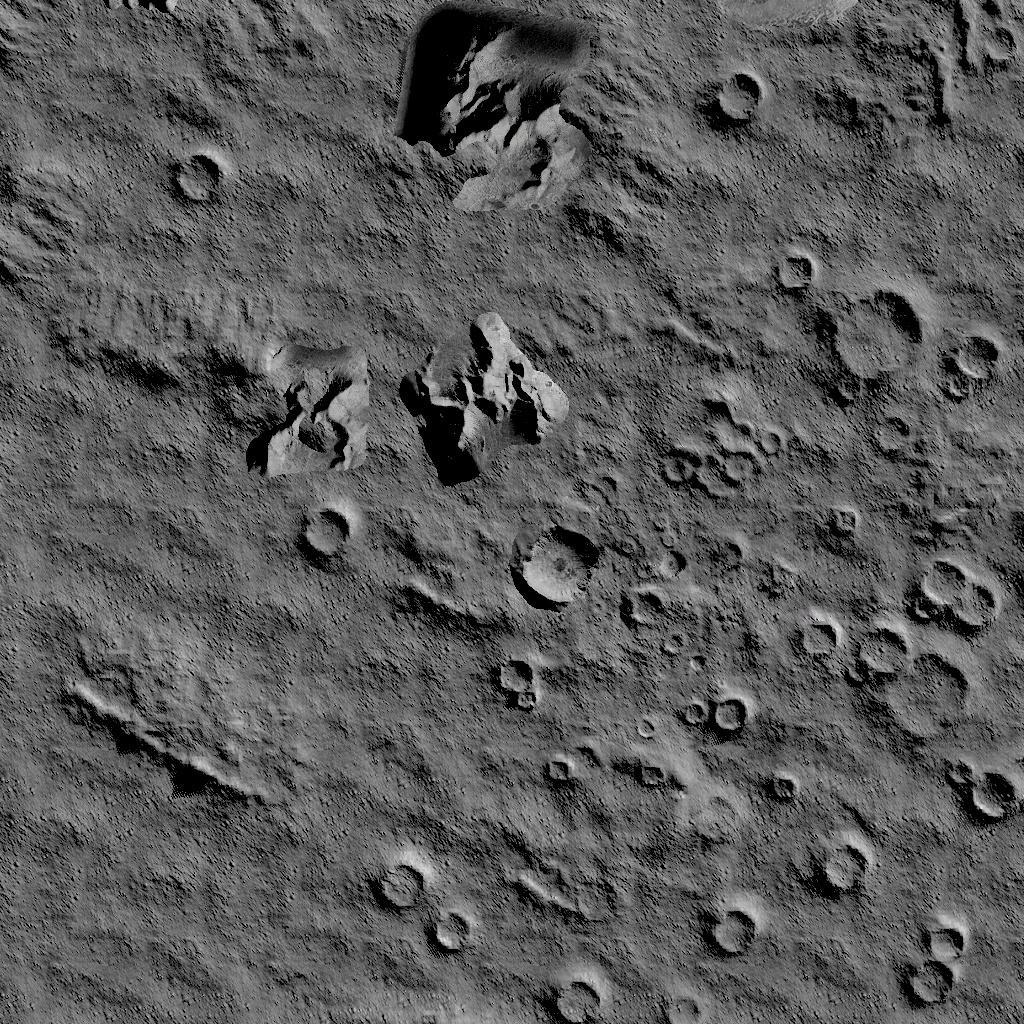Boulders: (84, 300, 372, 476), (397, 0, 609, 223), (399, 304, 569, 490), (59, 664, 259, 820), (374, 512, 492, 640), (0, 166, 88, 286), (0, 0, 80, 90), (703, 0, 854, 32), (96, 0, 180, 16)
Crater: (784, 560, 1014, 736), (820, 292, 1008, 458), (629, 382, 790, 512), (365, 848, 475, 970), (502, 518, 612, 614), (903, 910, 972, 1020), (690, 58, 772, 146), (283, 494, 366, 580), (937, 754, 1022, 836), (790, 830, 874, 900), (624, 550, 692, 636), (157, 146, 238, 216), (536, 958, 620, 1024), (672, 688, 760, 740), (696, 898, 764, 964), (493, 654, 553, 725), (956, 20, 1018, 82), (760, 252, 816, 301), (820, 500, 858, 546), (632, 750, 674, 791), (544, 746, 580, 792), (760, 764, 802, 802)
Plan surface: (13, 832, 350, 1024), (1, 490, 264, 648), (253, 56, 379, 288), (279, 660, 475, 807), (685, 152, 988, 232)
